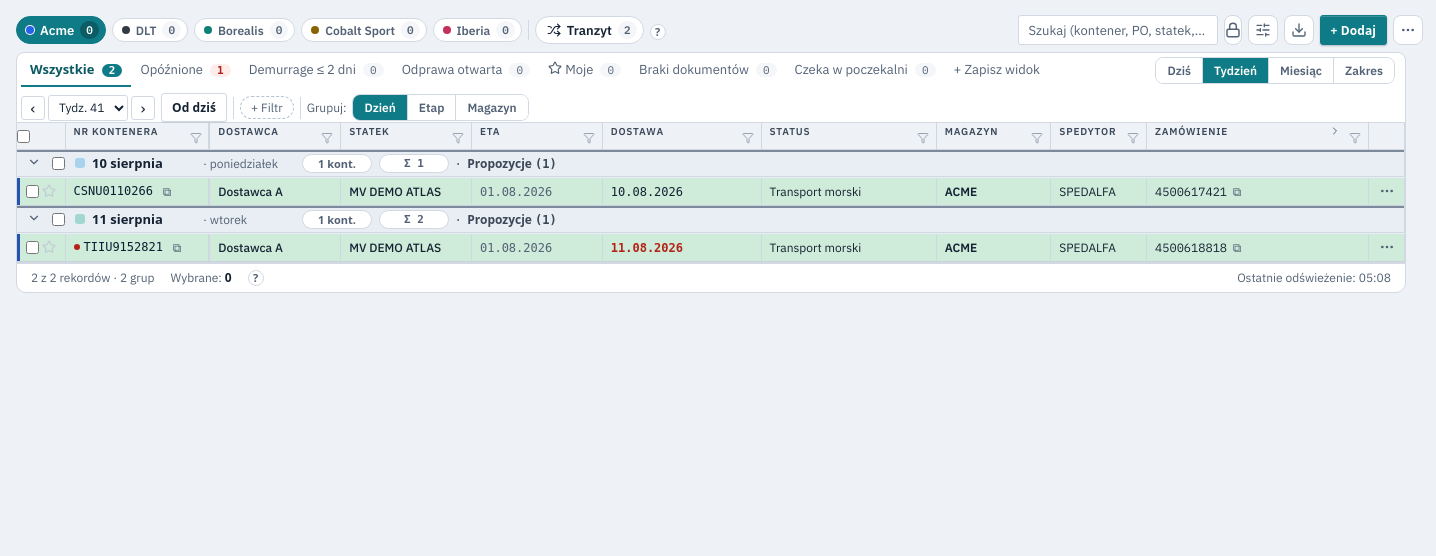
Test: kolejka — filtry widoczne › „+ Filtr → Transport": tryby jako pigułki z ikoną; klik ustawia chip, ponowny klik czyści
expect the text "CSNU0110266" is shown: met, box x1=74 y1=184 x2=153 y2=198
Click the button with class "kq-addfilter-btn".
click(267, 108)  # box x1=240 y1=96 x2=294 y2=119
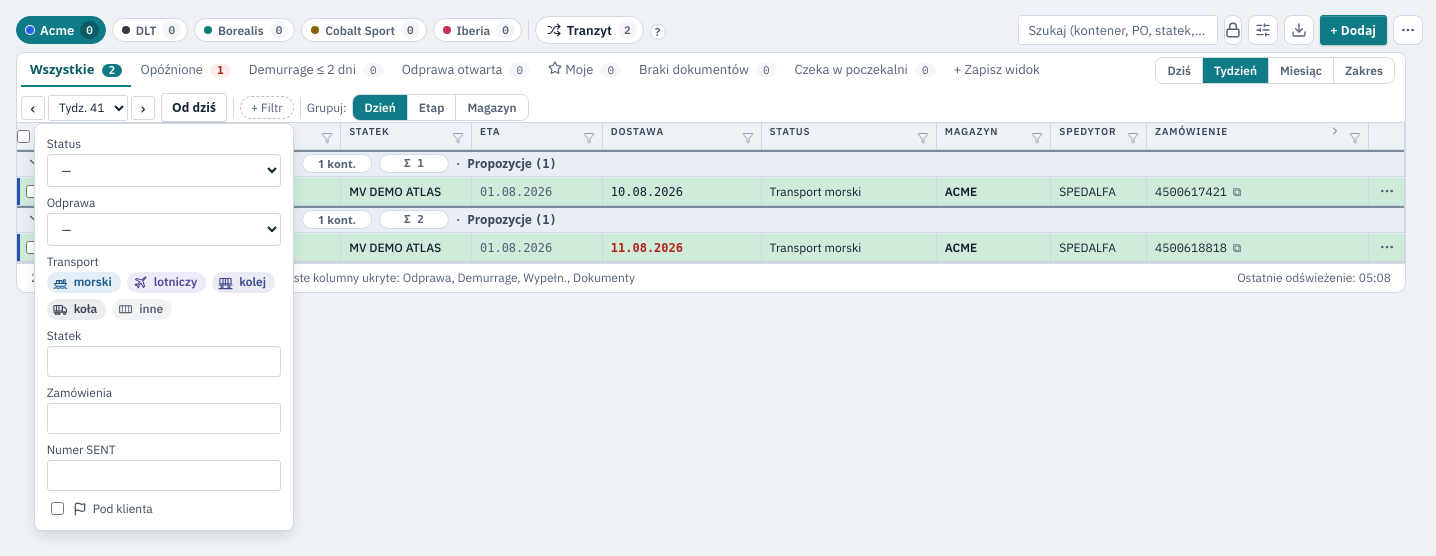
Click the button "kolej".
click(244, 282)  # box x1=212 y1=272 x2=275 y2=293
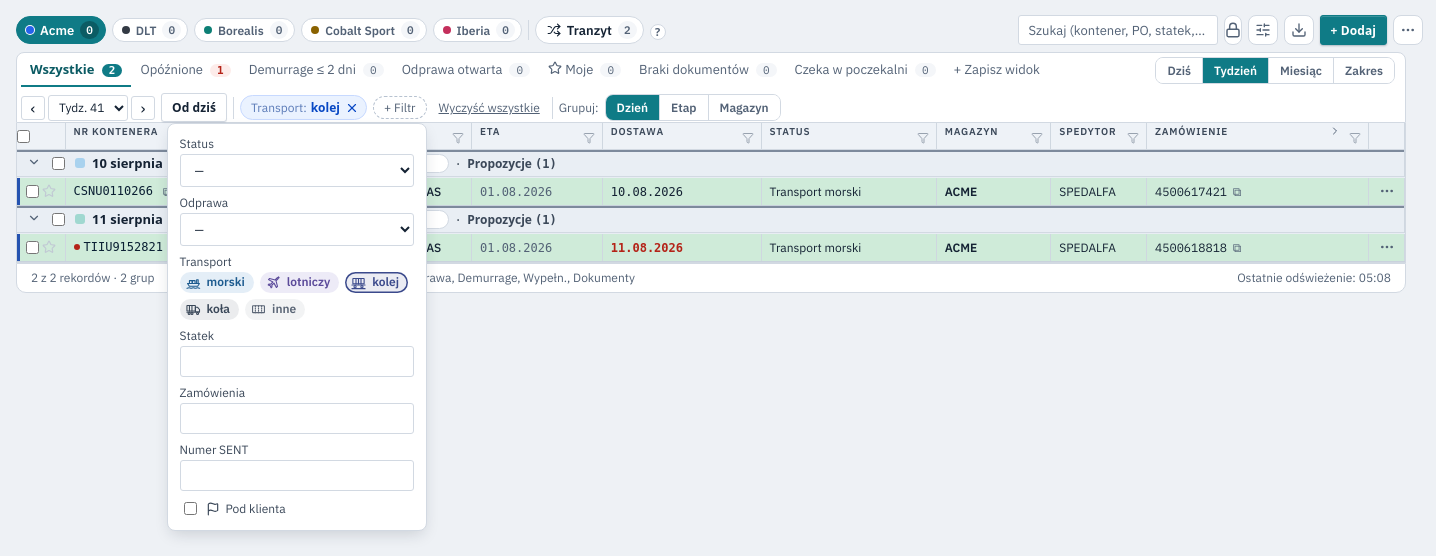
expect the element with class "kq-filters" shows "Transport: kolej": met, box x1=16 y1=52 x2=1406 y2=123
Click the button "kolej".
click(377, 282)  # box x1=345 y1=272 x2=408 y2=293
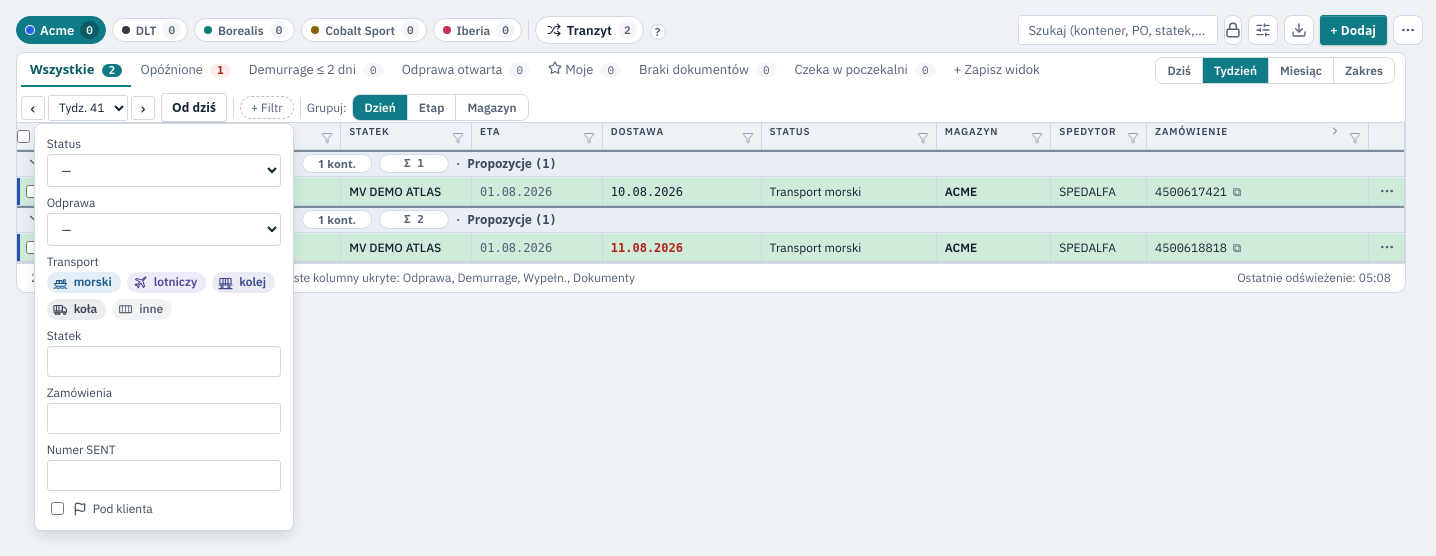
expect the element with class "kq-chip" is gone: met
